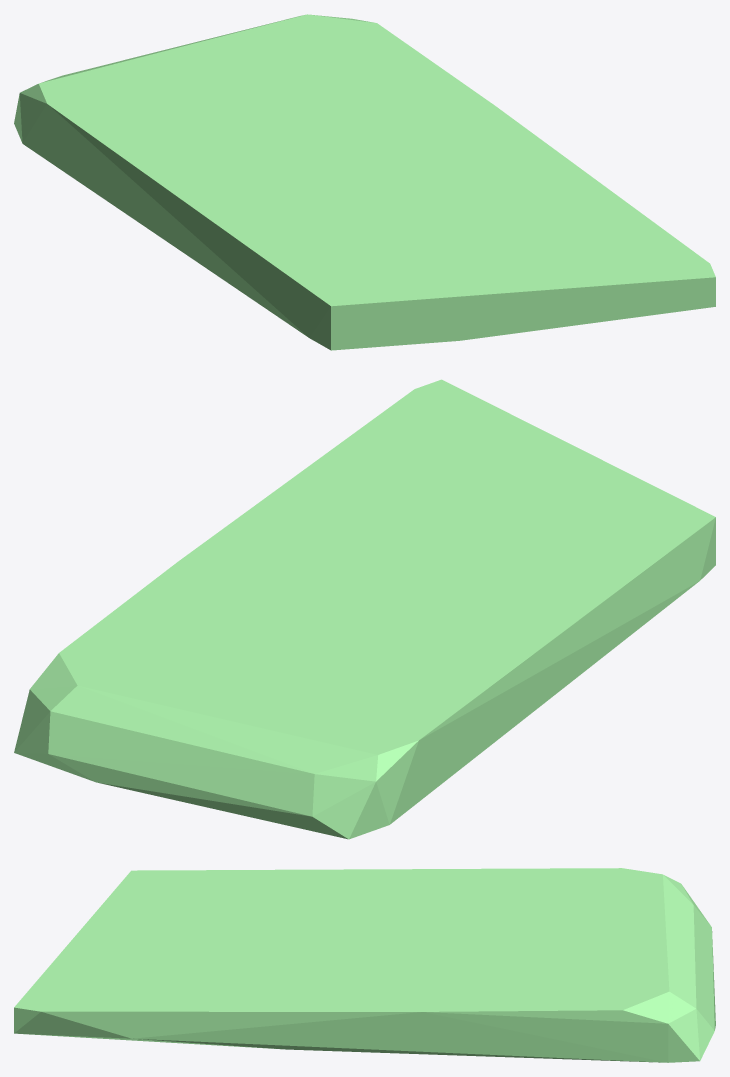
File: dxxx_robot_base_coll_2.dae
The picture shows the model from 3 angles, top to bottom: view 1: azimuth 30°, elevation 25°; view 2: azimuth 150°, elevation 25°; view 3: azimuth 270°, elevation 25°; orthographic projection. The views are drawn at different scales.
Parts seen in each view (by area): view 1: Node_000001D818CB9BA0; view 2: Node_000001D818CB9BA0; view 3: Node_000001D818CB9BA0.
Part boxes in pixels (x1,y1,x2,y2): Node_000001D818CB9BA0: (14,14,715,350); Node_000001D818CB9BA0: (14,379,715,839); Node_000001D818CB9BA0: (14,868,715,1062).
Size of the model in its own units: 0.0878 by 0.0148 by 0.1802.
